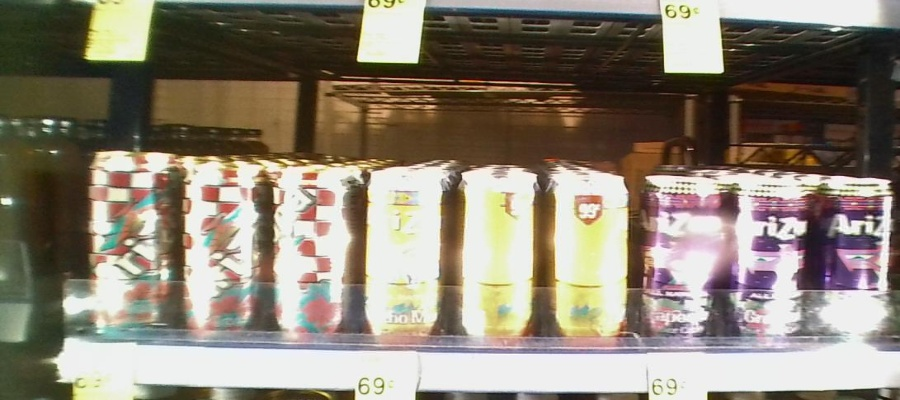bottle: (84, 144, 172, 330), (360, 162, 450, 340), (177, 154, 266, 330), (273, 156, 356, 339), (638, 171, 728, 338), (731, 167, 815, 343), (545, 171, 632, 340), (454, 170, 537, 338), (818, 169, 891, 336)
